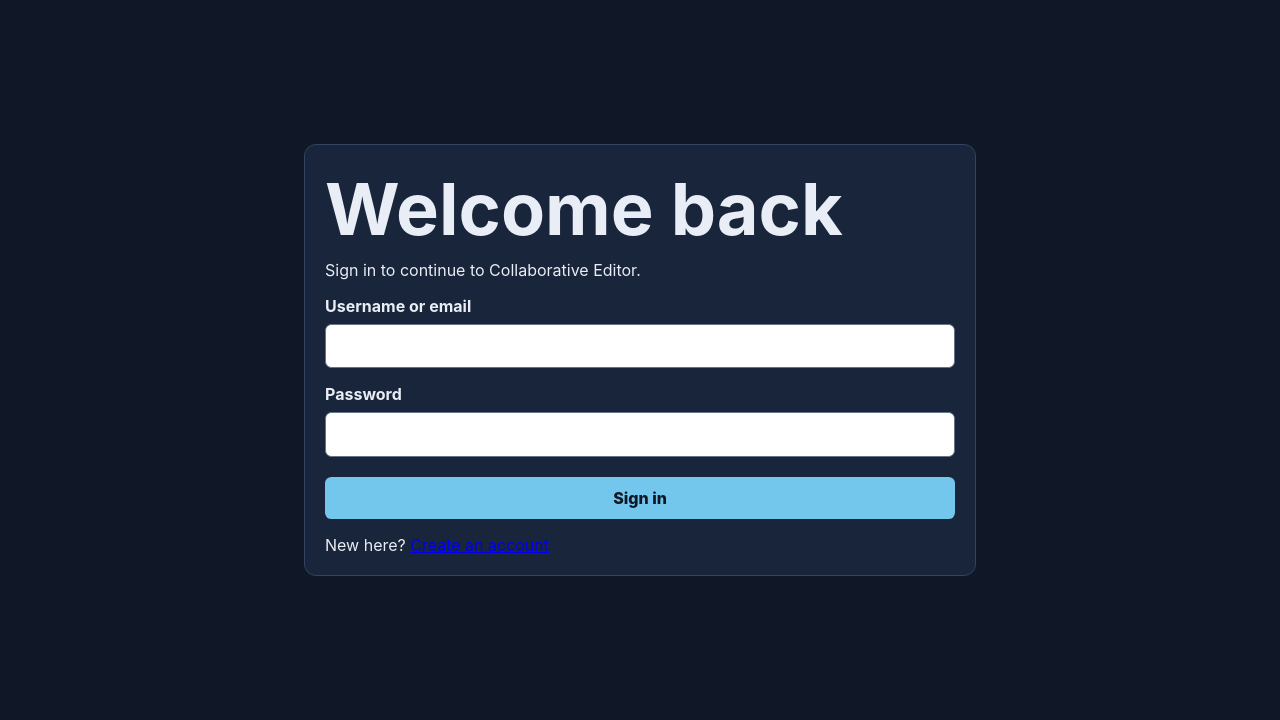
Test case: authentication flows › normalizes registration input and establishes an authenticated session
The width and height of the screenshot is (1280, 720).
Check: the heading "Welcome back" is shown, box [325, 165, 843, 252]
Click the link "Create an account" at (480, 545), box [410, 535, 549, 555]
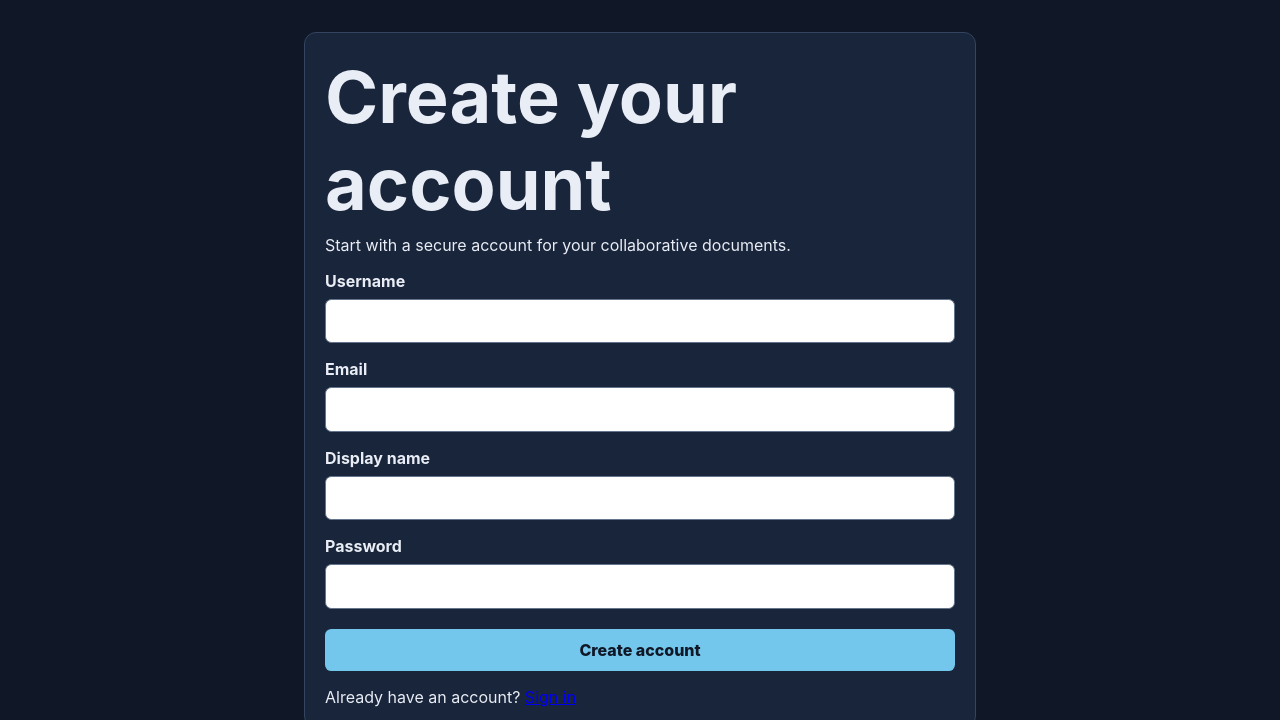
Check: the heading "Create your account" is shown, box [325, 53, 737, 227]
Type " Nathan_1 " into the field labelled "Username" at (640, 321), box [325, 299, 955, 343]
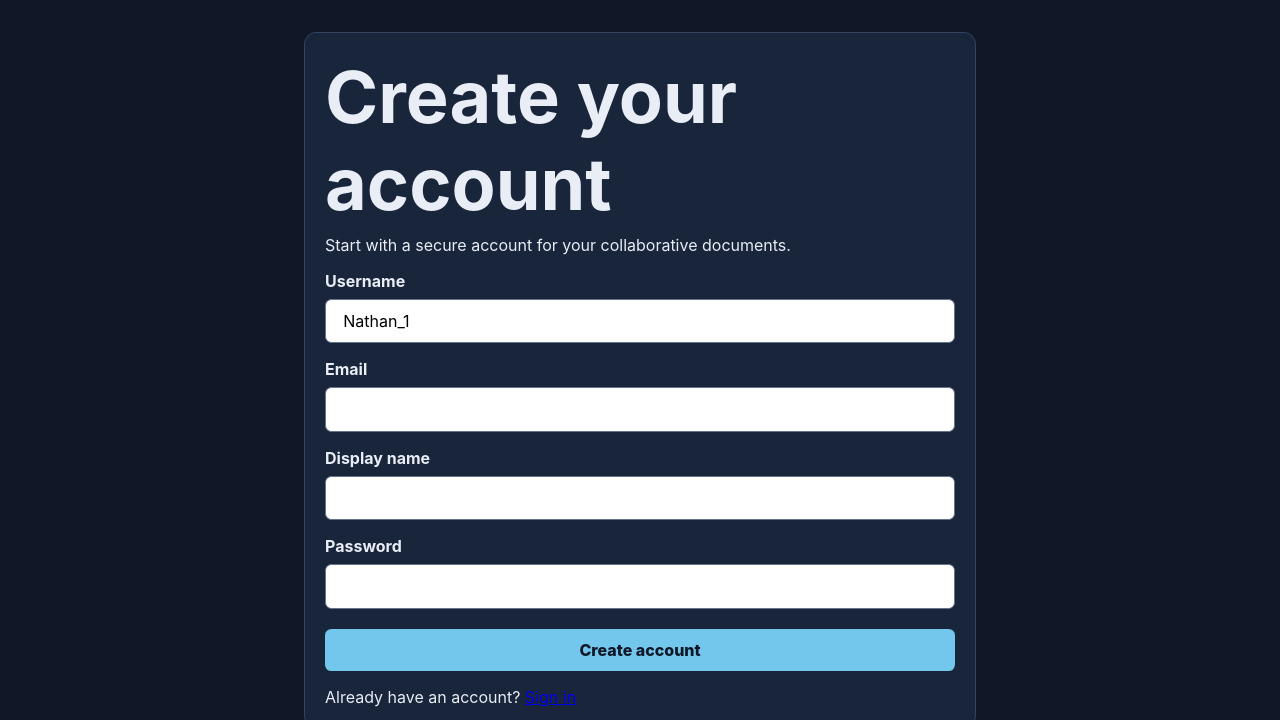
Type " Nathan@Example.com " into the field labelled "Email" at (640, 410), box [325, 387, 955, 432]
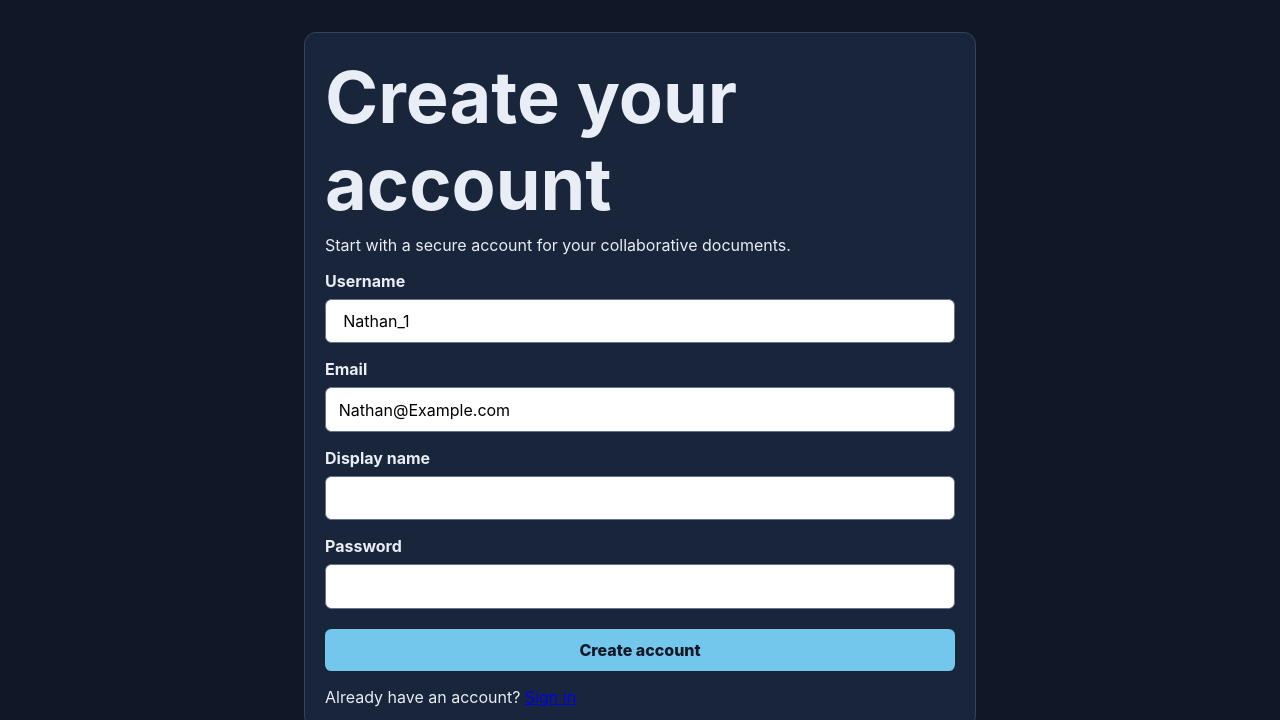
Type " Nathan " into the field labelled "Display name" at (640, 498), box [325, 476, 955, 520]
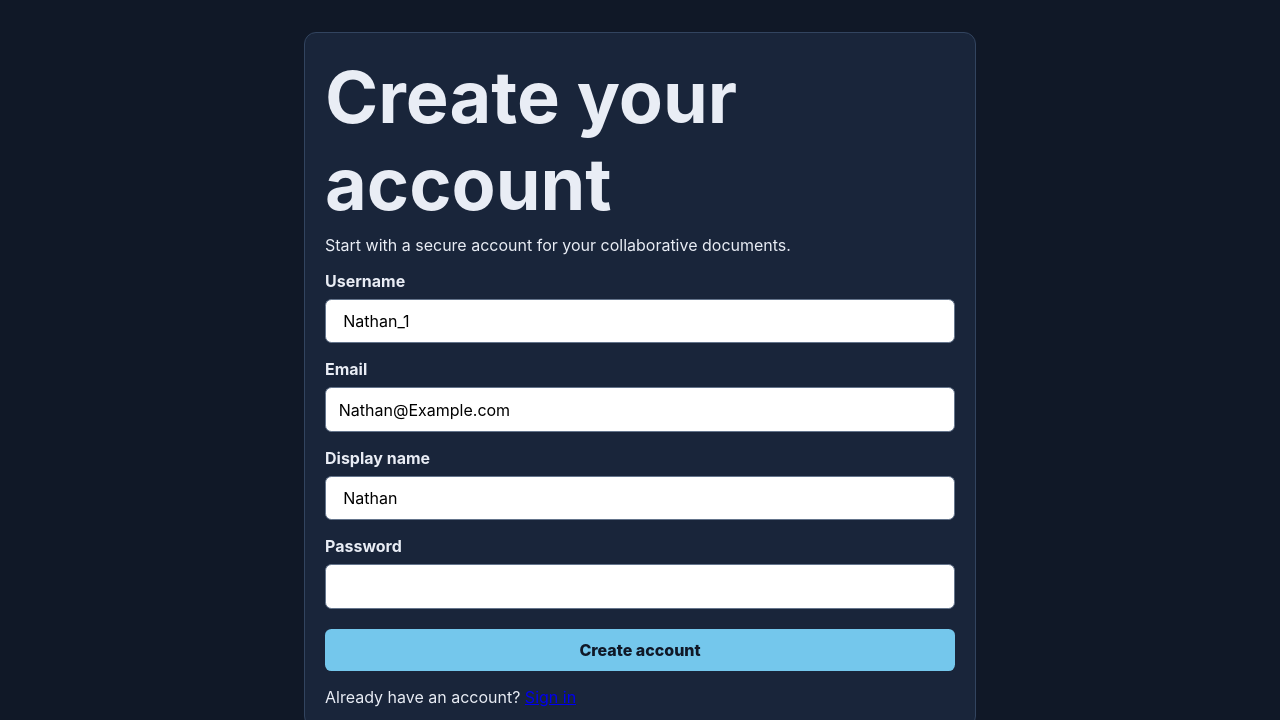
Type "password123" into the password field labelled "Password" at (640, 586), box [325, 564, 955, 608]
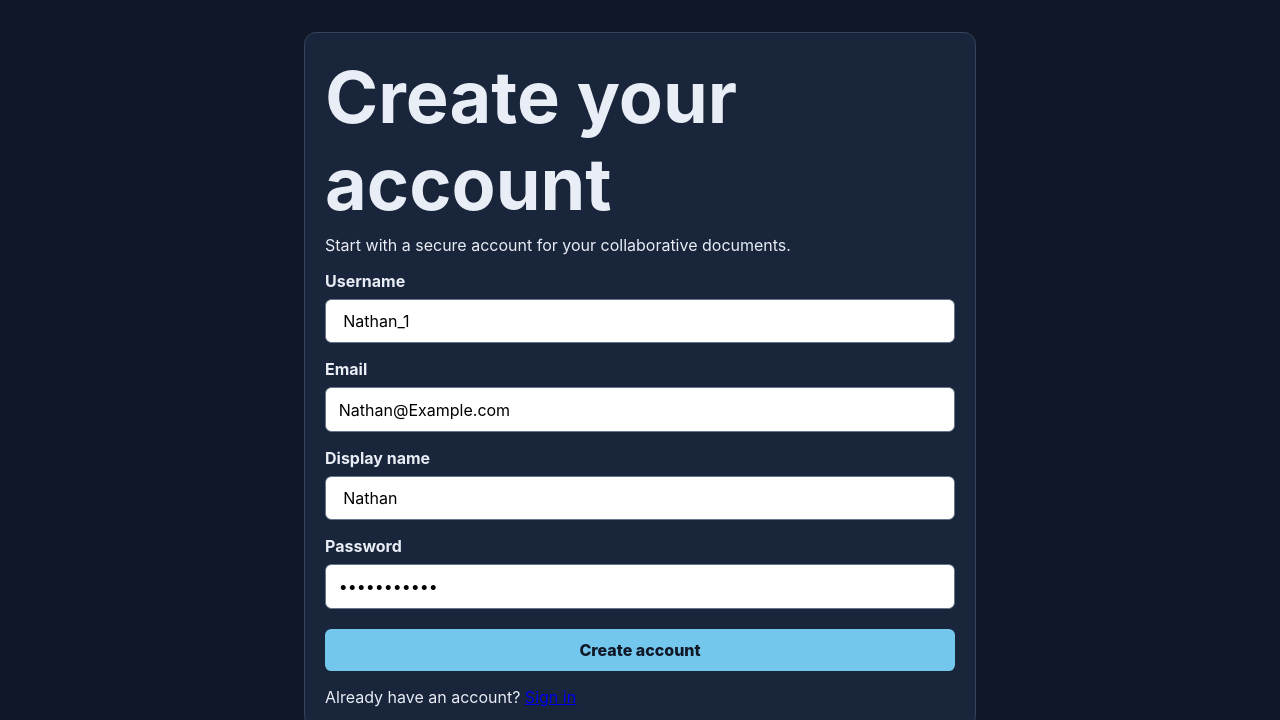
Click the button "Create account" at (640, 650), box [325, 628, 955, 671]
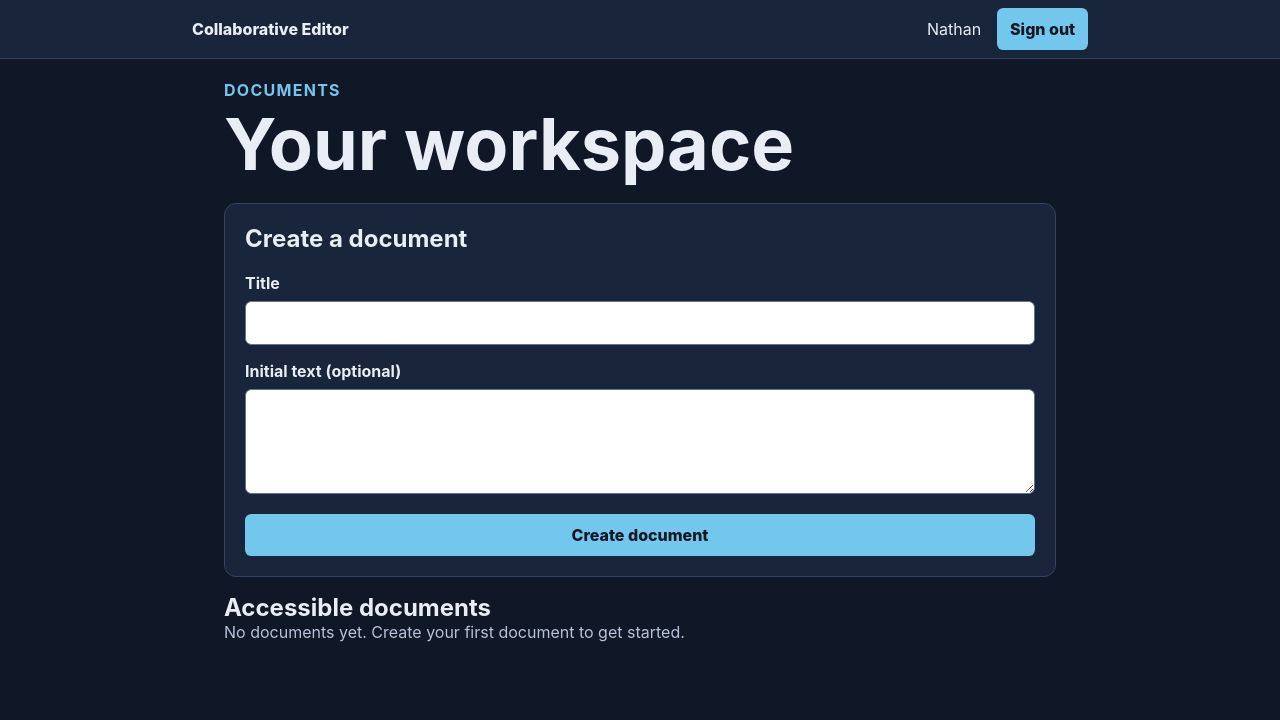
Check: the heading "Your workspace" is shown, box [224, 100, 794, 187]
